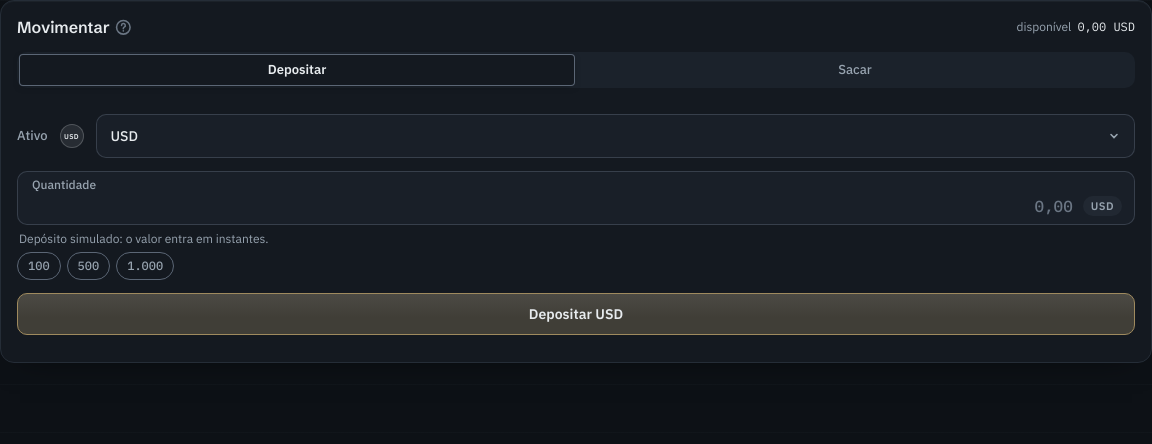
Movement panel › Should fill the amount from a quick chip and send it
Step 1. Click the button named "1.000 USD" → [145, 266], box [116,252,174,280]
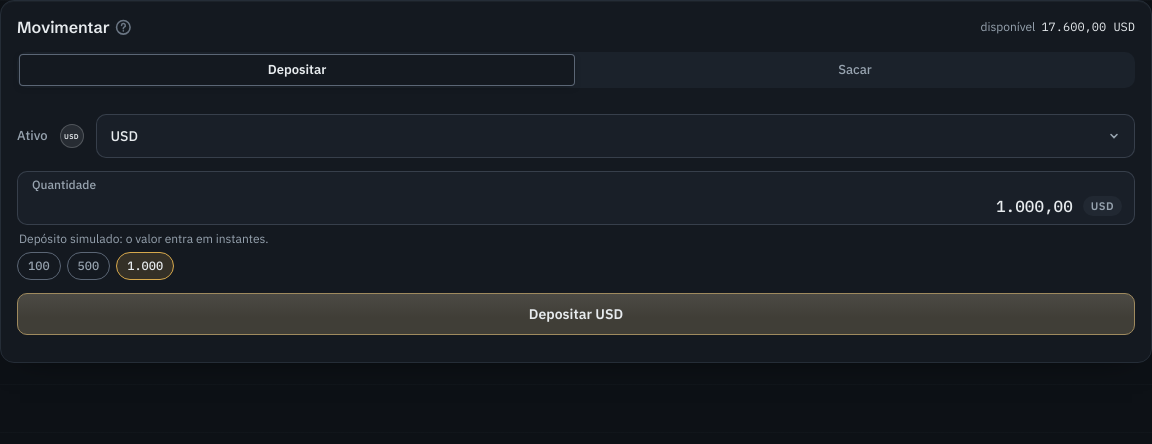
Now the field labelled "Quantidade" holds "1.000,00", box [32,194,1073,218]
Step 2. Select "BTC" in the dropdown labelled "Ativo" → [615, 136], box [96,114,1135,158]
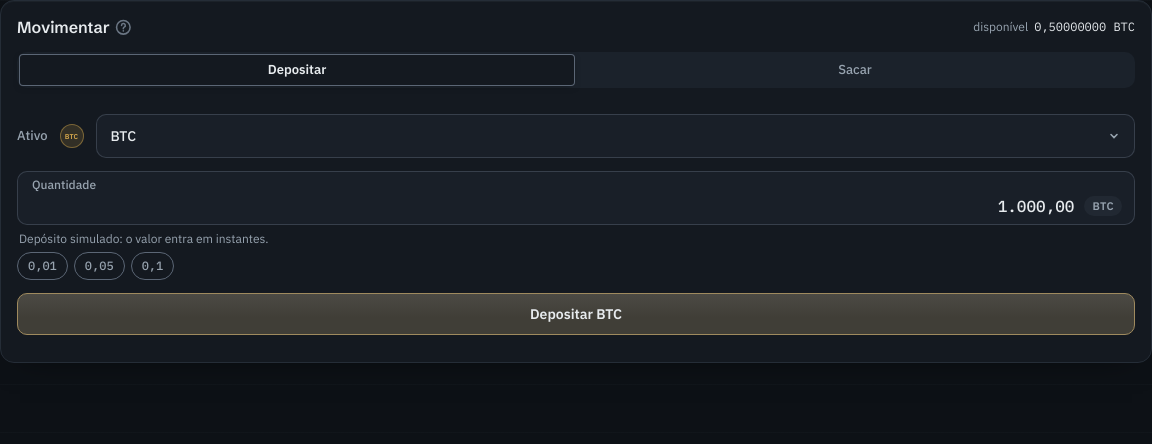
Step 3. Click the button named "0,05 BTC" → [99, 266], box [74,252,125,280]
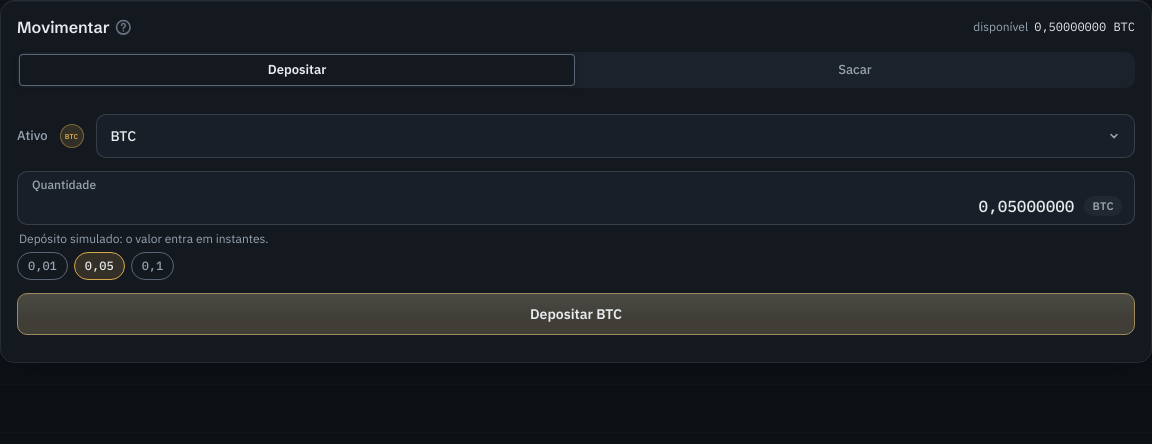
Step 4. Click the button "Depositar BTC" → [576, 314], box [17,293,1135,335]
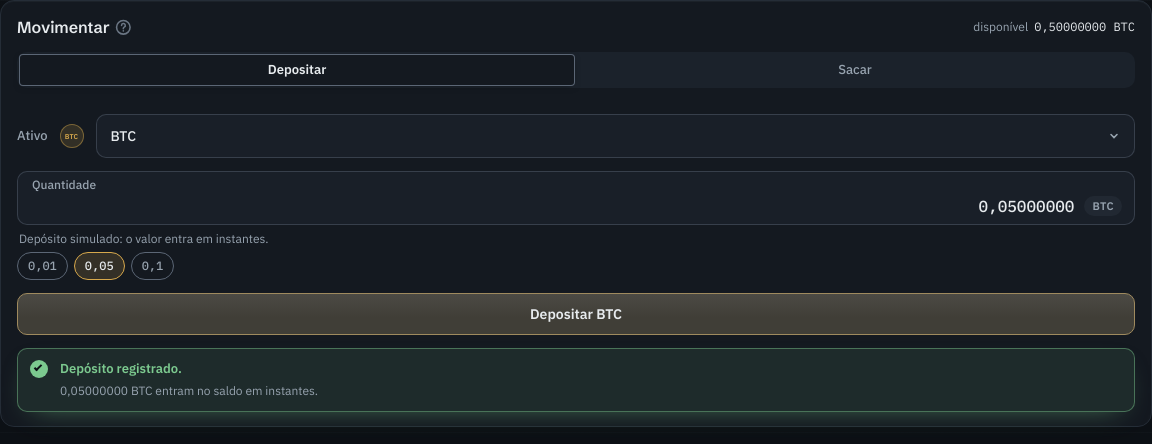
Now the message "Depósito registrado. 0,05000000 BTC entram no saldo em instantes." is shown, box [17,348,1135,412]
